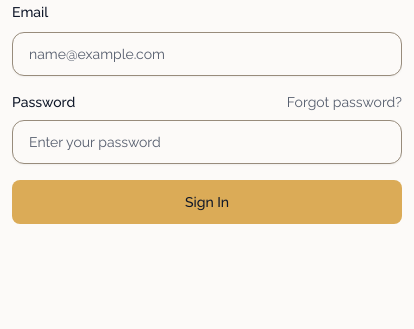
Scenario: LoginForm › shows the network message
Type "a@b.com" into the field labelled "Email".
click(207, 54); type("a@b.com")  # box [12,32,402,76]
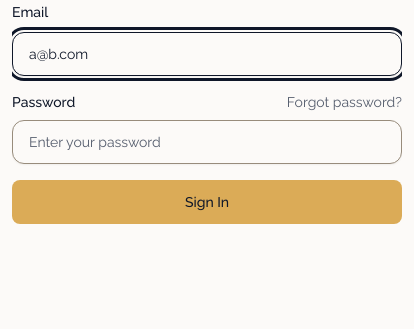
Type "secret123" into the password field labelled "Password".
click(207, 142); type("secret123")  # box [12,120,402,164]
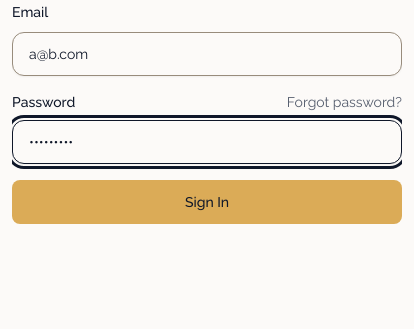
Click the button "Sign In".
click(207, 202)  # box [12,180,402,224]
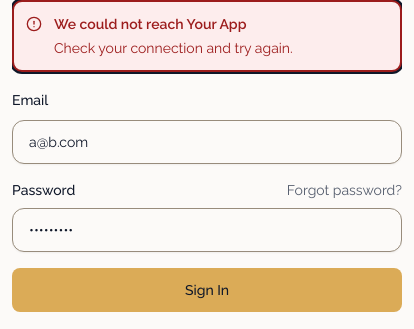
Expected: the message reads "We could not reach Your App Check your connection and try again.", [12,0,402,72]
